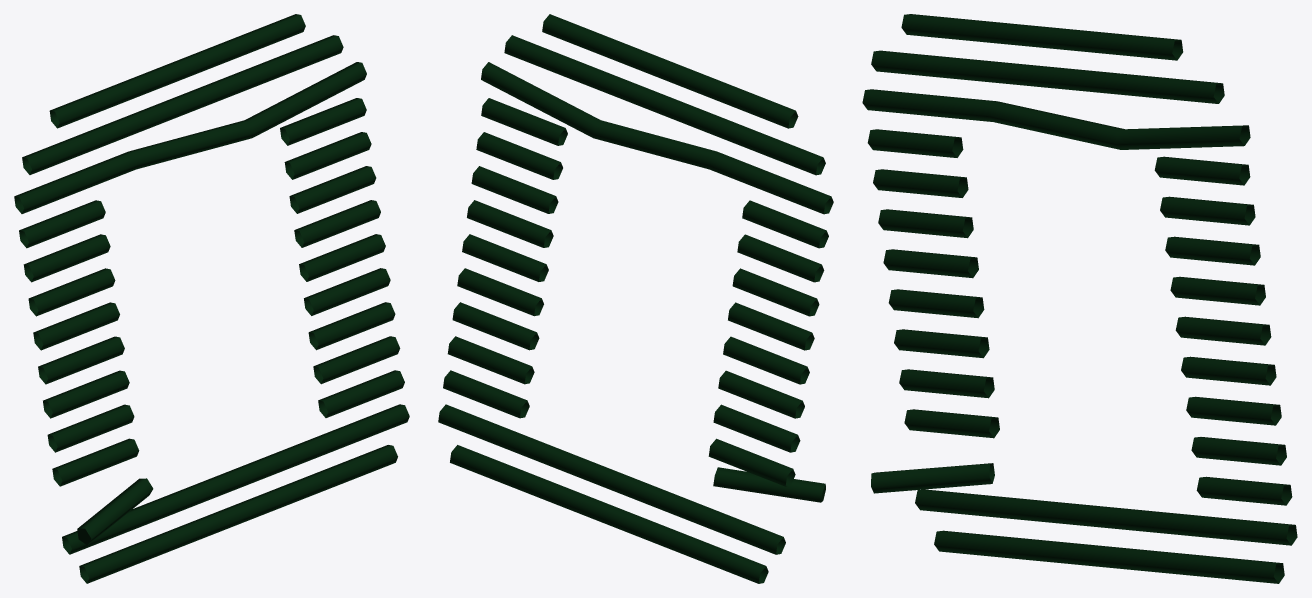
The model's file is O_Emi.fbx.
3 renders of one model, left to right at view 1: azimuth 30°, elevation 25°; view 2: azimuth 150°, elevation 25°; view 3: azimuth 330°, elevation 25°, orthographic. The views are drawn at different scales.
Parts seen in each view (by area): view 1: Object004; view 2: Object004; view 3: Object004.
Boxes of the visible parts, bbox=[...] form: Object004: bbox=[14, 14, 409, 583]; Object004: bbox=[438, 14, 833, 583]; Object004: bbox=[862, 14, 1297, 583].
Size of the model in its own units: 410 by 522 by 71.59.
